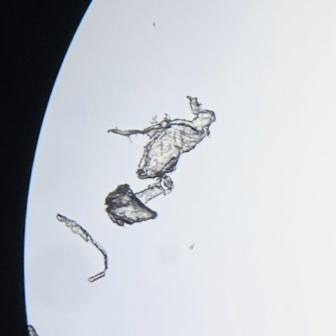microplastic: (105, 96, 215, 227), (56, 214, 108, 282), (27, 325, 38, 336)
